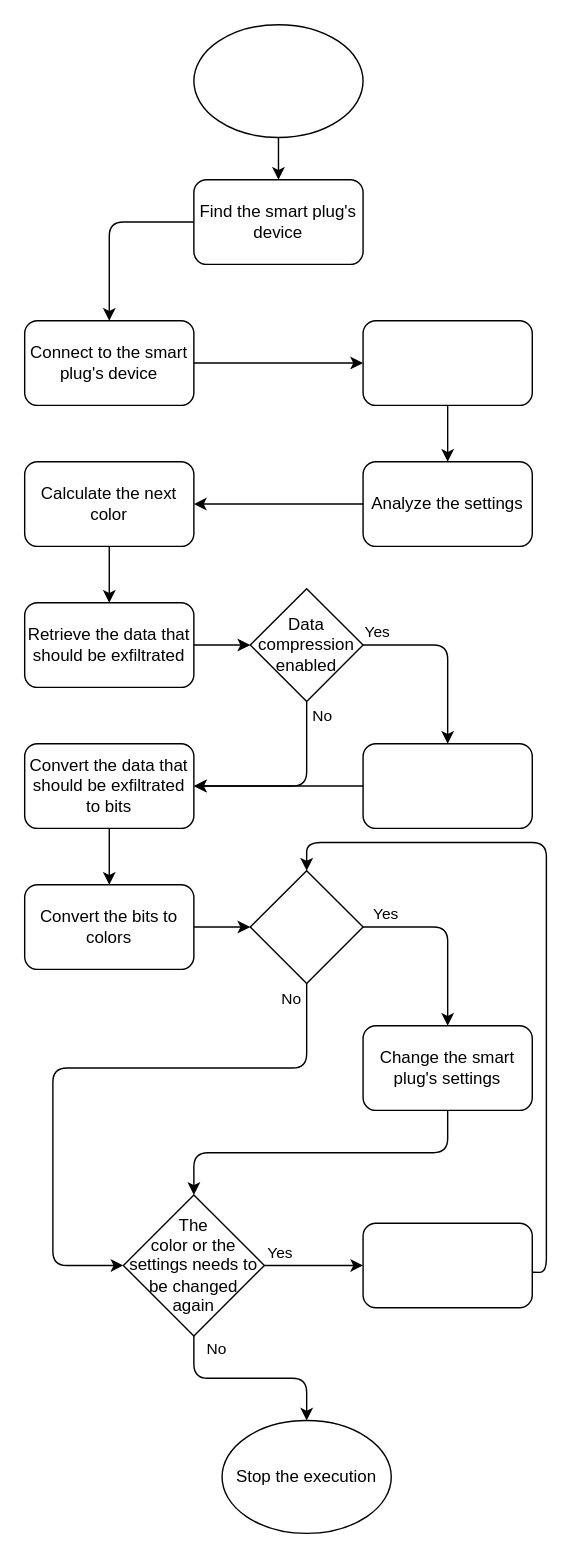
The diagram is 582 pixels wide and 1558 high, and some of its shapes have lost their labels. Each missing label, with the box of its shape:
Apply the required compression functions: (362, 742, 532, 828)
Read the smart plug's settings: (362, 319, 532, 405)
Settings needs to be changed: (249, 869, 363, 983)
Start of the execution: (192, 23, 363, 137)
Wait an amount of time: (362, 1222, 532, 1308)
